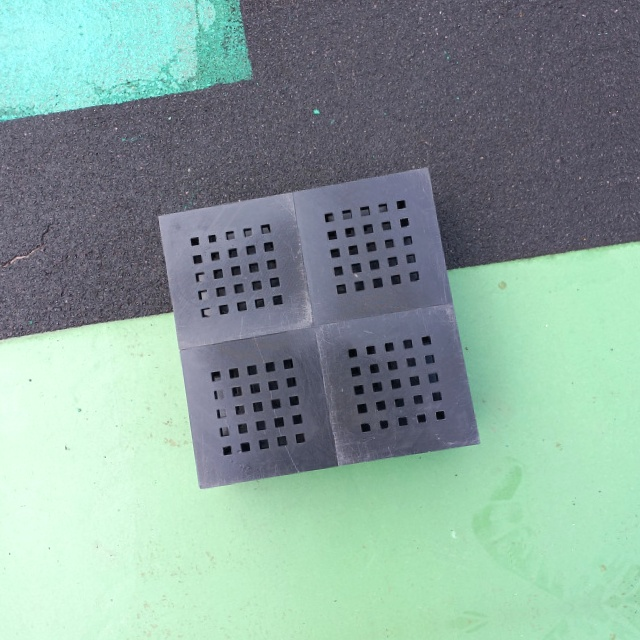pallet: (151, 159, 490, 503)
